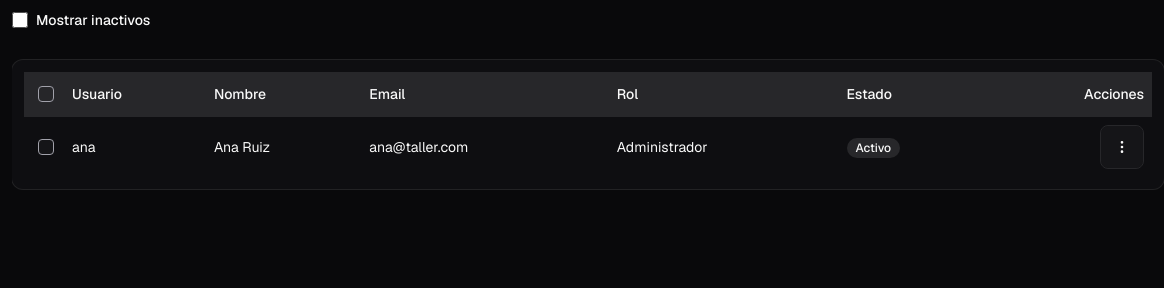
Test: UsersTable — the action each row offers › offers Reactivar on a deactivated row
The width and height of the screenshot is (1164, 288).
Click the checkbox labelled "Mostrar inactivos": (20, 20) [12,12,28,28]
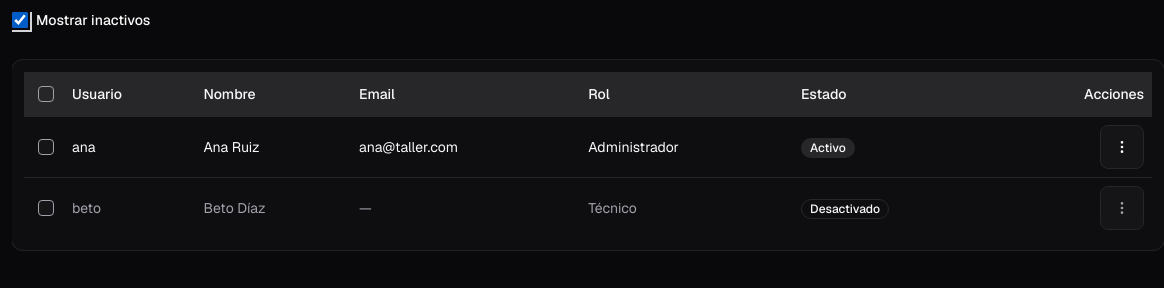
Click the button named "Acciones de beto": (1122, 208) [1100,186,1144,230]
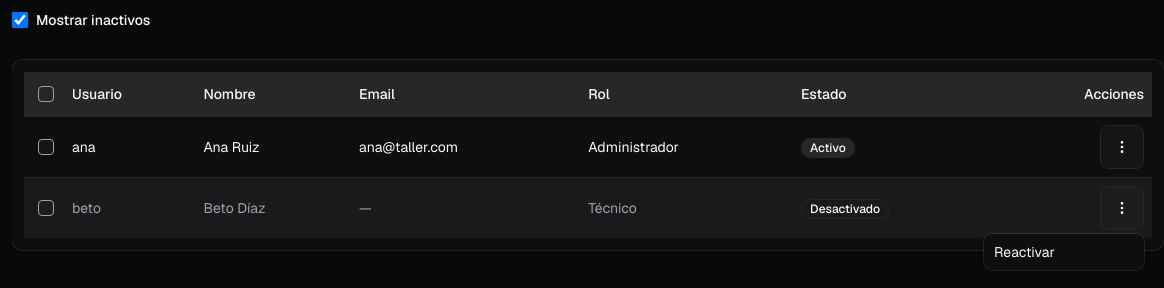
Now the menu is shown, box [984,234,1144,270]
Now the menu item "Reactivar" is shown, box [994,243,1055,261]
